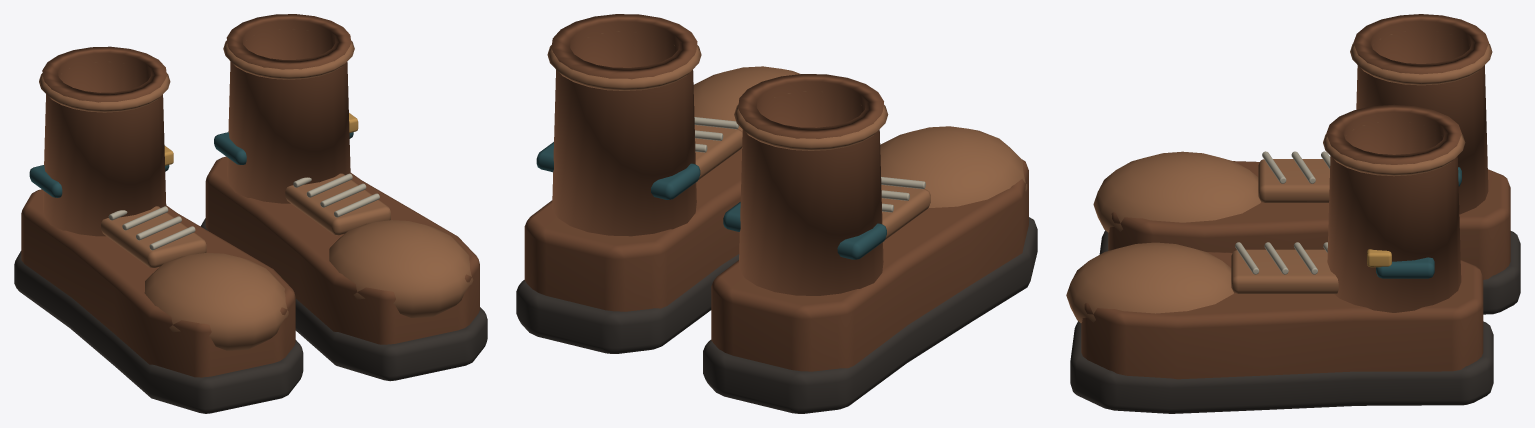
File: leather_boots.glb
3 views of the same model, side by side, from view 1: azimuth 30°, elevation 25°; view 2: azimuth 150°, elevation 25°; view 3: azimuth 270°, elevation 25° (orthographic). The views are drawn at different scales.
Visible parts, largest first — view 1: SM_leather_boots; view 2: SM_leather_boots; view 3: SM_leather_boots.
Boxes of the visible parts, x1=… form: SM_leather_boots: x1=14, y1=14, x2=487, y2=413; SM_leather_boots: x1=516, y1=14, x2=1037, y2=413; SM_leather_boots: x1=1066, y1=14, x2=1520, y2=413.
Size of the model in its own units: 0.352 by 0.239 by 0.402.
